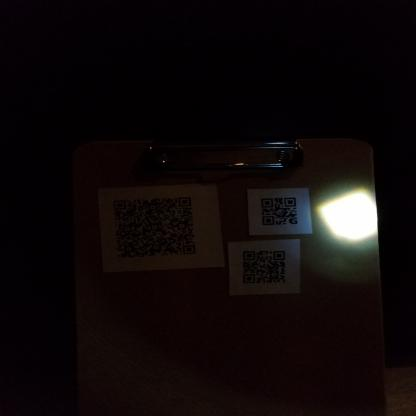qr: (109, 193, 200, 261), (238, 247, 291, 286), (259, 193, 302, 230)
